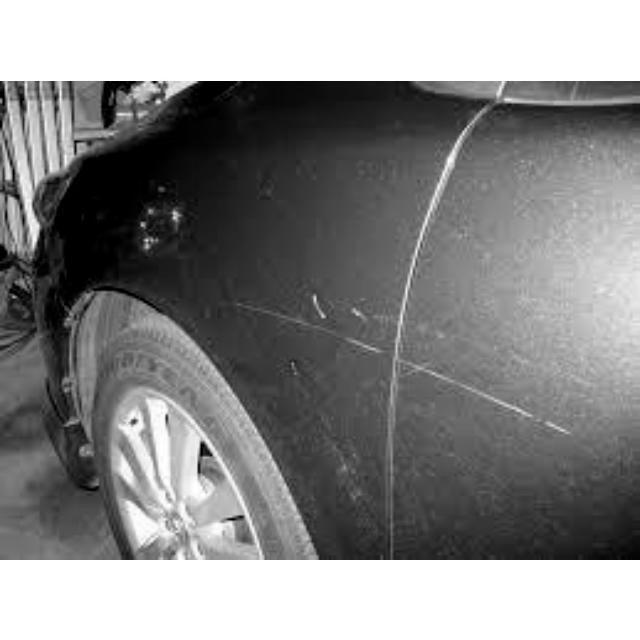fender-dent: (164, 118, 621, 481)
